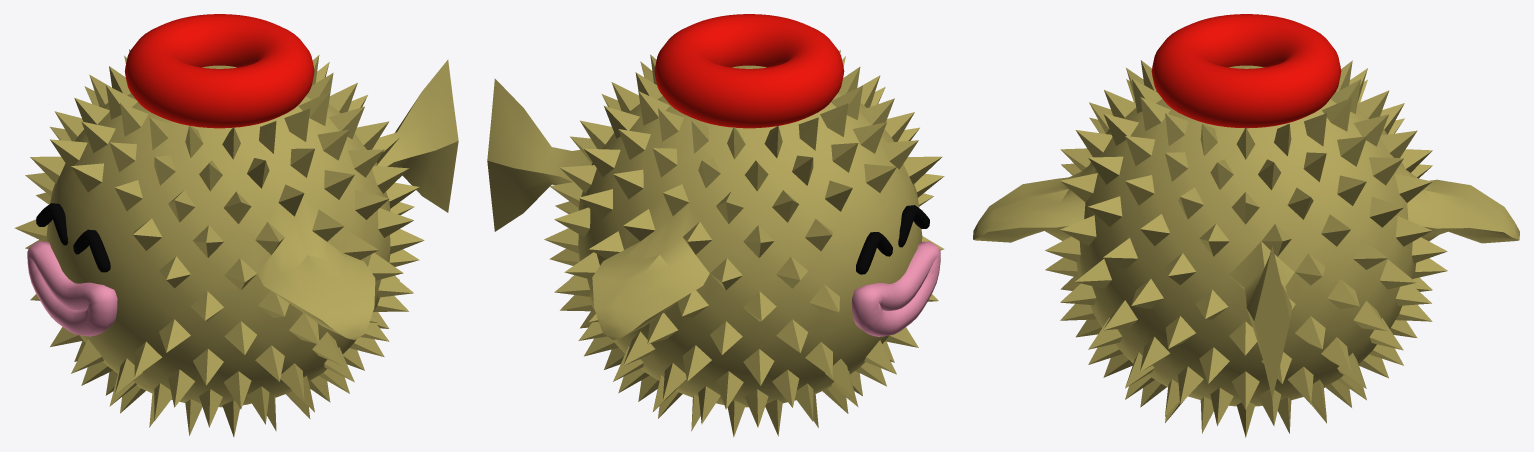
The model's file is Poisson_Globe.fbx.
The picture shows the model from 3 angles, left to right: view 1: azimuth 30°, elevation 25°; view 2: azimuth 150°, elevation 25°; view 3: azimuth 270°, elevation 25°; orthographic projection.
Parts seen in each view (by area): view 1: Sphere, Torus, Plane.001, Plane; view 2: Sphere, Torus, Plane.001, Plane; view 3: Sphere, Torus.
Boxes of the visible parts, bbox=[...] form: Sphere: bbox=[14, 49, 458, 436]; Torus: bbox=[124, 14, 314, 128]; Plane.001: bbox=[27, 241, 117, 336]; Plane: bbox=[36, 203, 110, 272]; Sphere: bbox=[487, 50, 944, 437]; Torus: bbox=[654, 14, 844, 128]; Plane.001: bbox=[852, 241, 940, 336]; Plane: bbox=[856, 205, 929, 274]; Sphere: bbox=[973, 60, 1519, 437]; Torus: bbox=[1151, 14, 1341, 128].
Bounding box in the file's own units: 716 × 589 × 842.
